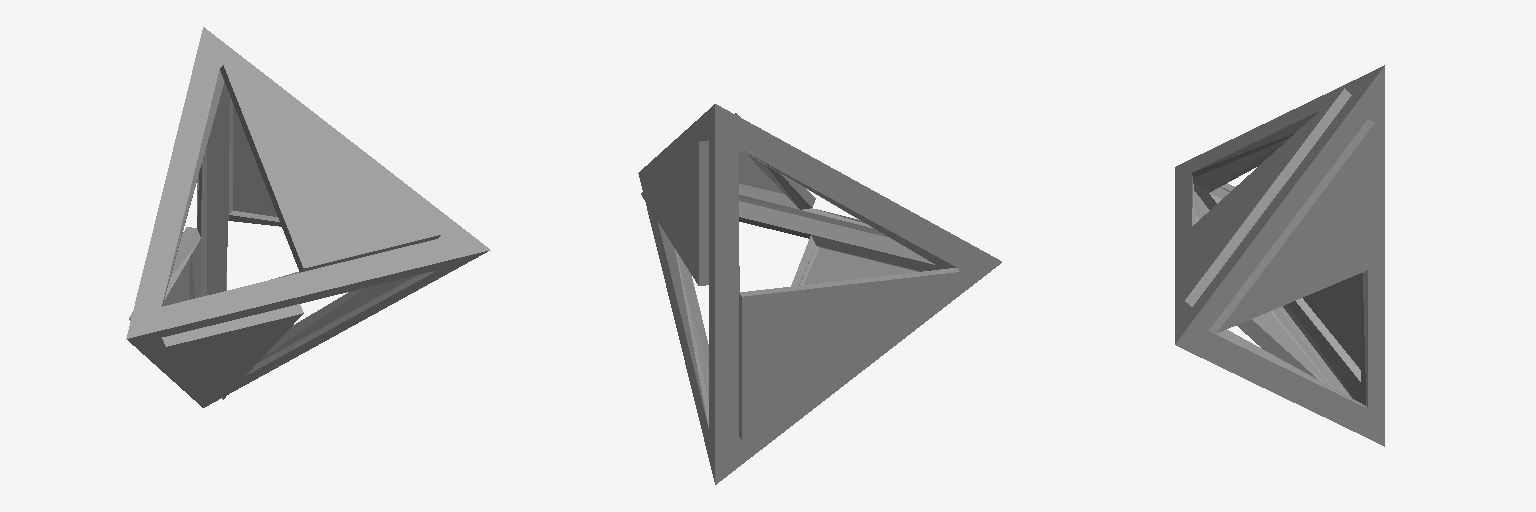
File: Karton.obj
The picture shows the model from 3 angles: view 1: azimuth 30°, elevation 25°; view 2: azimuth 150°, elevation 25°; view 3: azimuth 270°, elevation 25°; orthographic projection.
Parts seen in each view (by area): view 1: Cube.001; view 2: Cube.001; view 3: Cube.001.
Boxes of the visible parts, <box> form: Cube.001: <box>126,27,489,407</box>; Cube.001: <box>638,104,1001,484</box>; Cube.001: <box>1175,65,1384,446</box>.
Size of the model in its own units: 4 by 4 by 2.